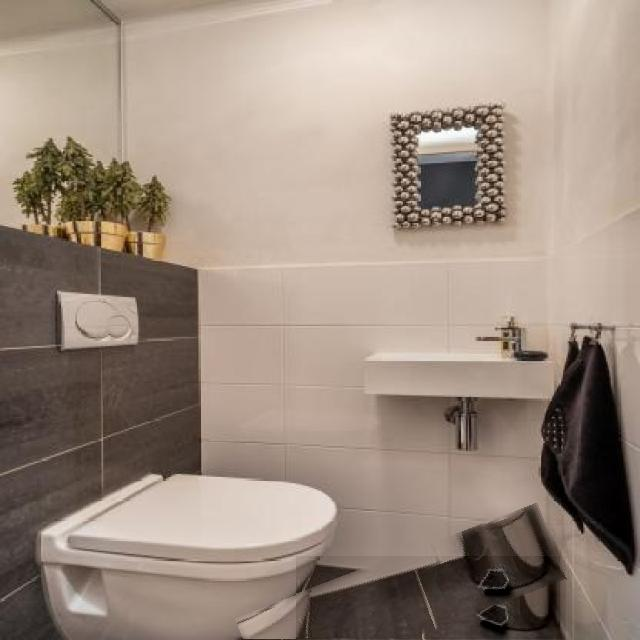floor: (297, 557, 566, 639)
